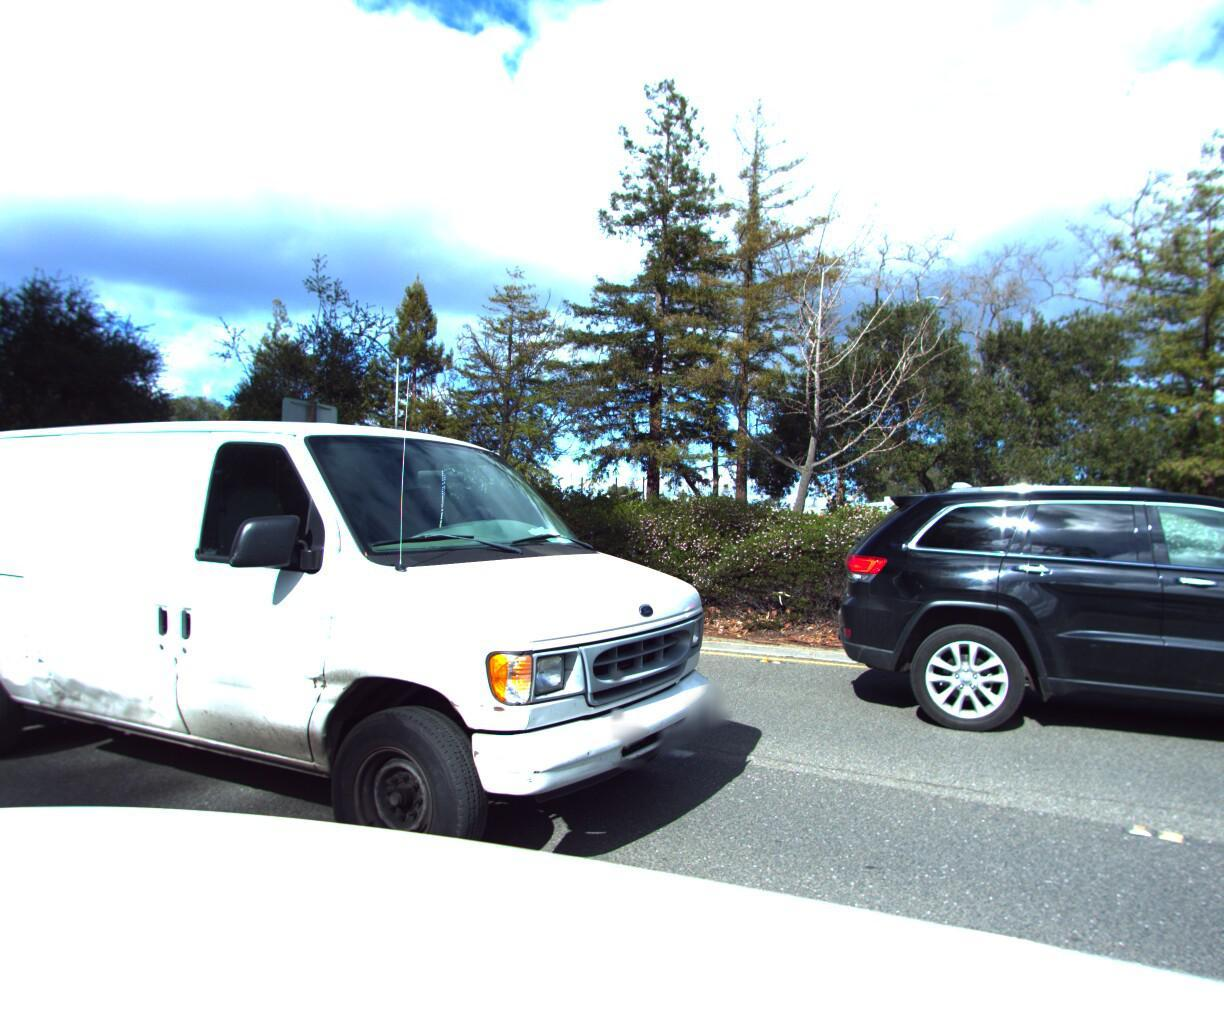car: (0, 340, 774, 961), (822, 468, 1224, 806)
